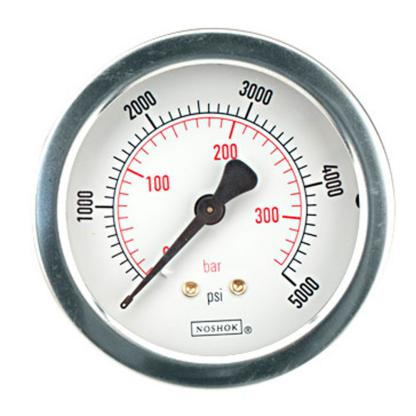needle: (123, 215, 207, 305)
